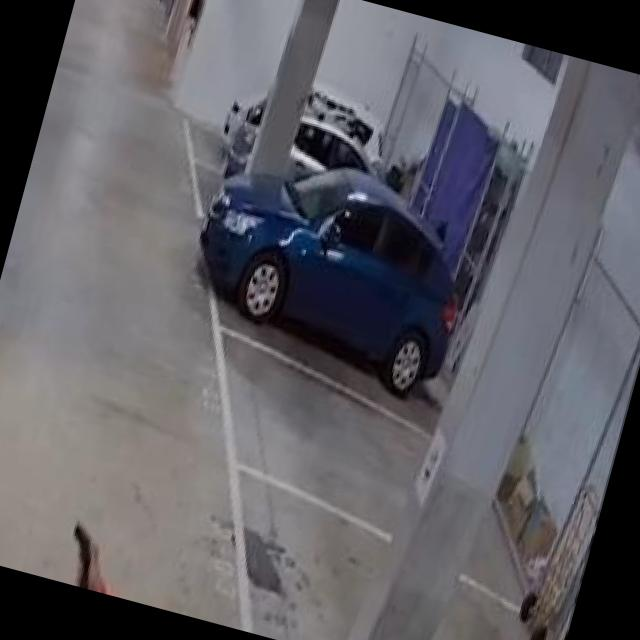Guns: (54, 511, 114, 592)
